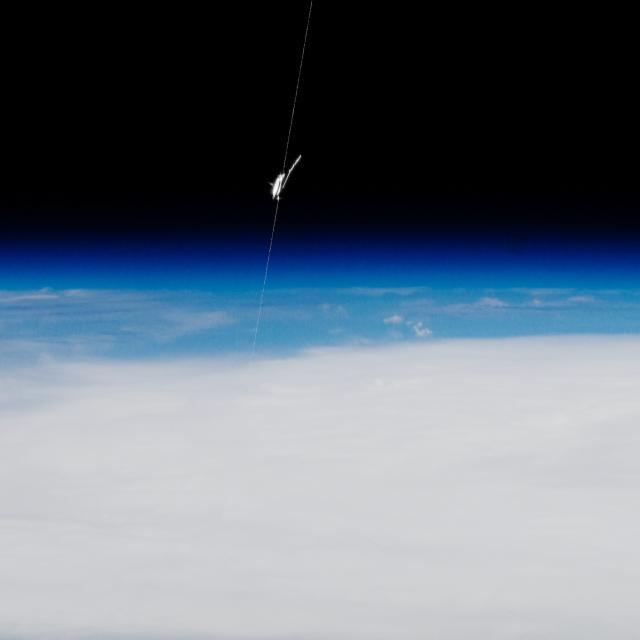satellite: (230, 5, 358, 331)
